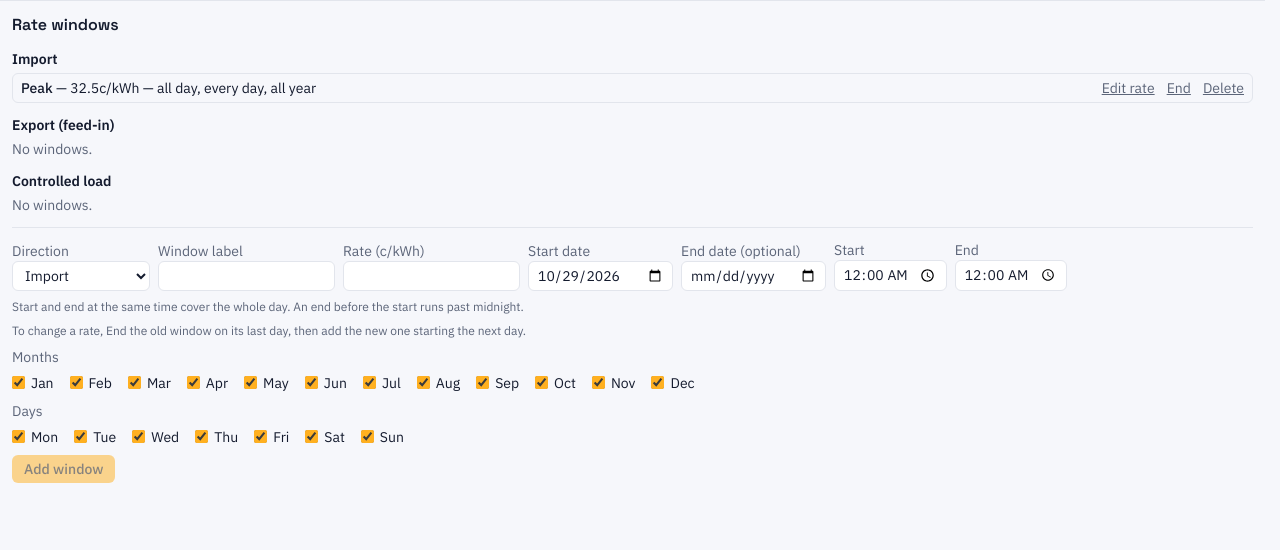
Test: RateWindowsPanel › shows only the latest failure when End and then Delete fail
Click the button with aria-label "End Peak" at (1179, 88), box 1167,78 -> 1191,98
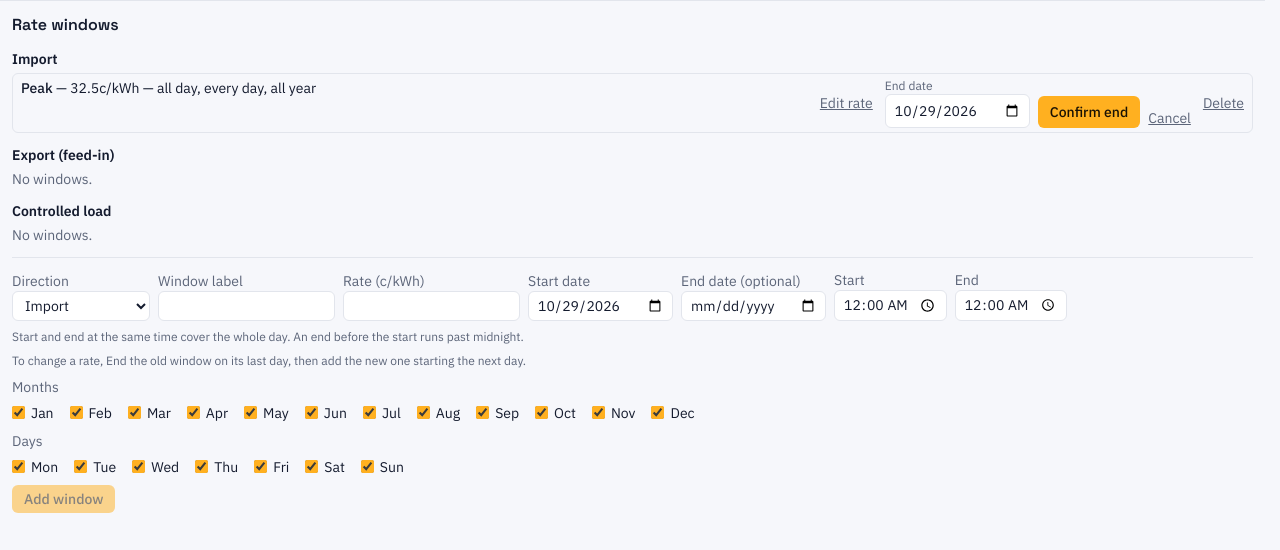
Type "2026-06-30" into the date field labelled "End date" at (957, 111), box 885,94 -> 1030,128
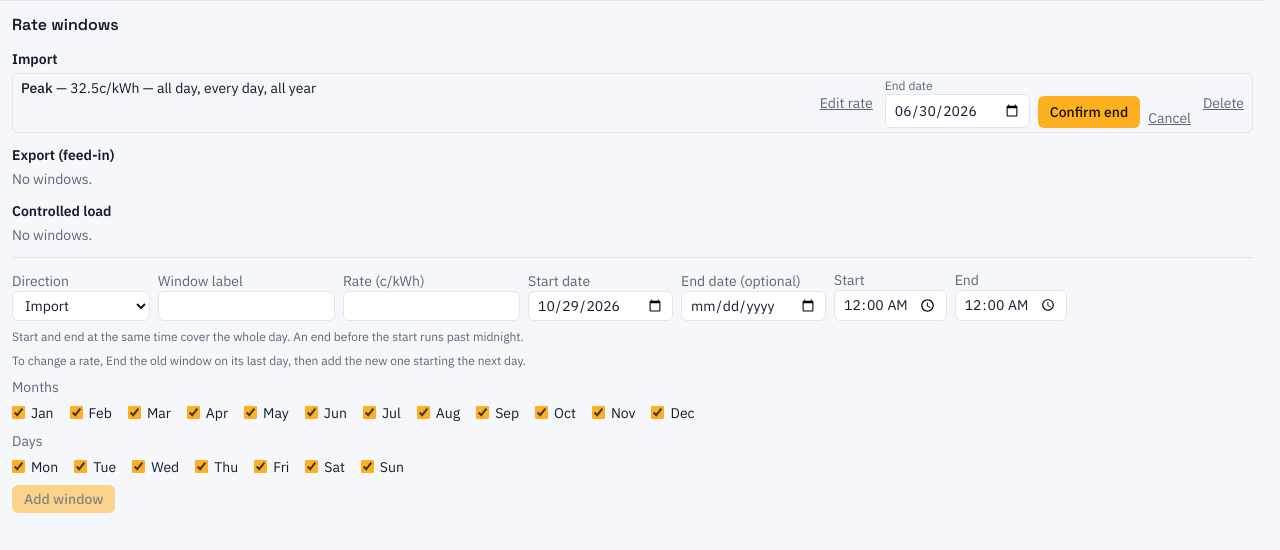
Click the button "Confirm end" at (1089, 112), box 1038,96 -> 1140,128
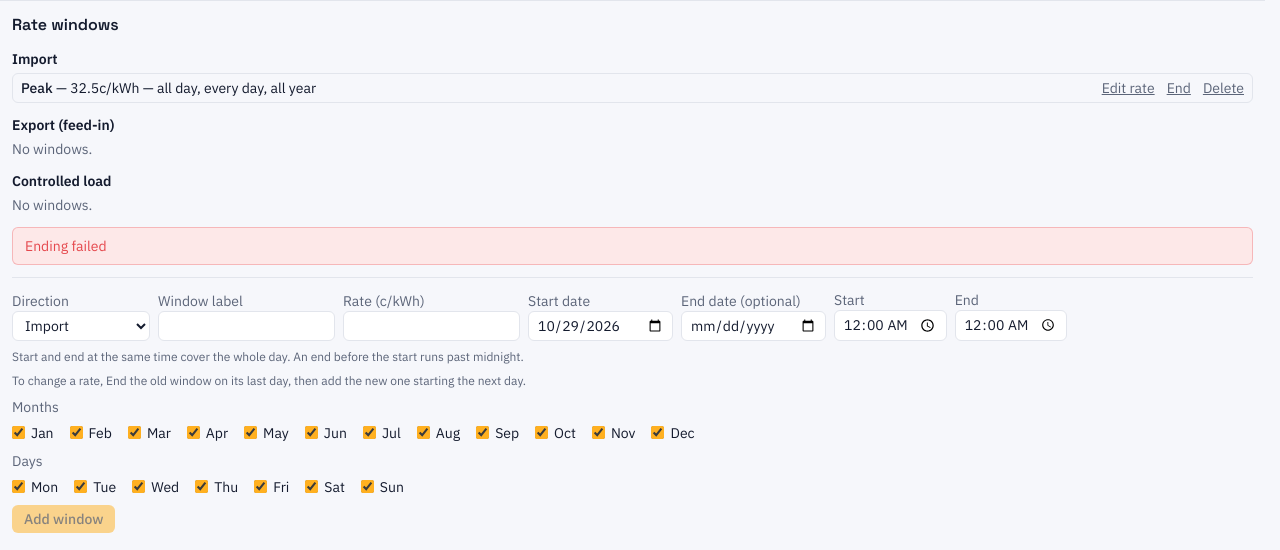
Now the message reads "Ending failed", box 25,237 -> 106,255
Click the button with aria-label "Delete Peak" at (1223, 88), box 1203,78 -> 1244,98
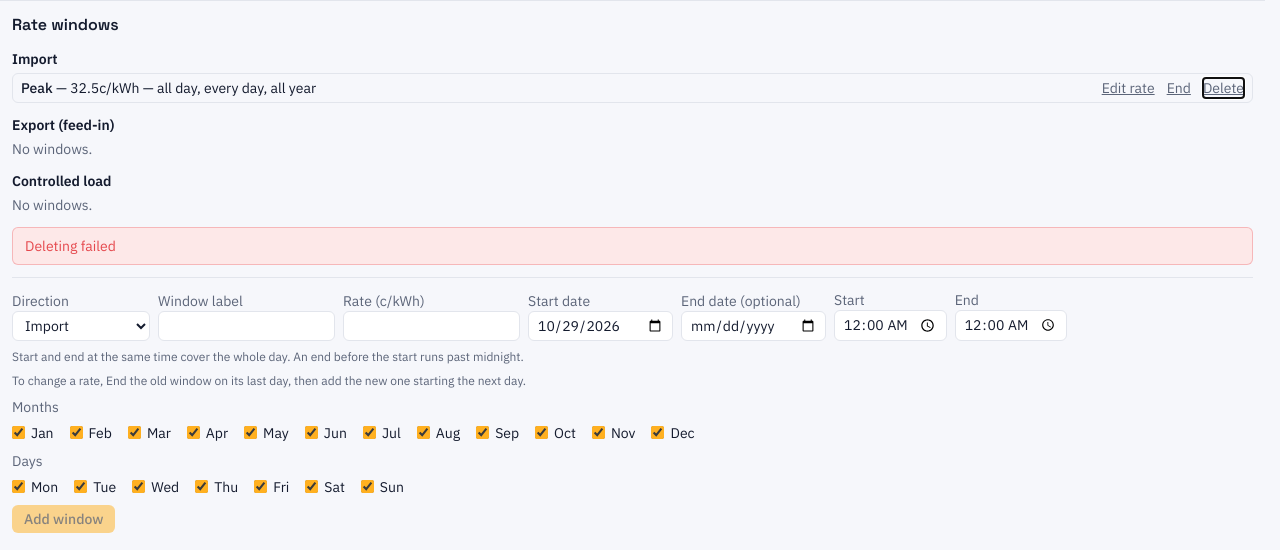
Now the number of messages is 1, box 12,227 -> 1253,265
Now the message reads "Deleting failed", box 25,237 -> 116,255
